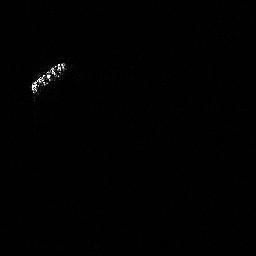ship: (28, 63, 73, 96)
